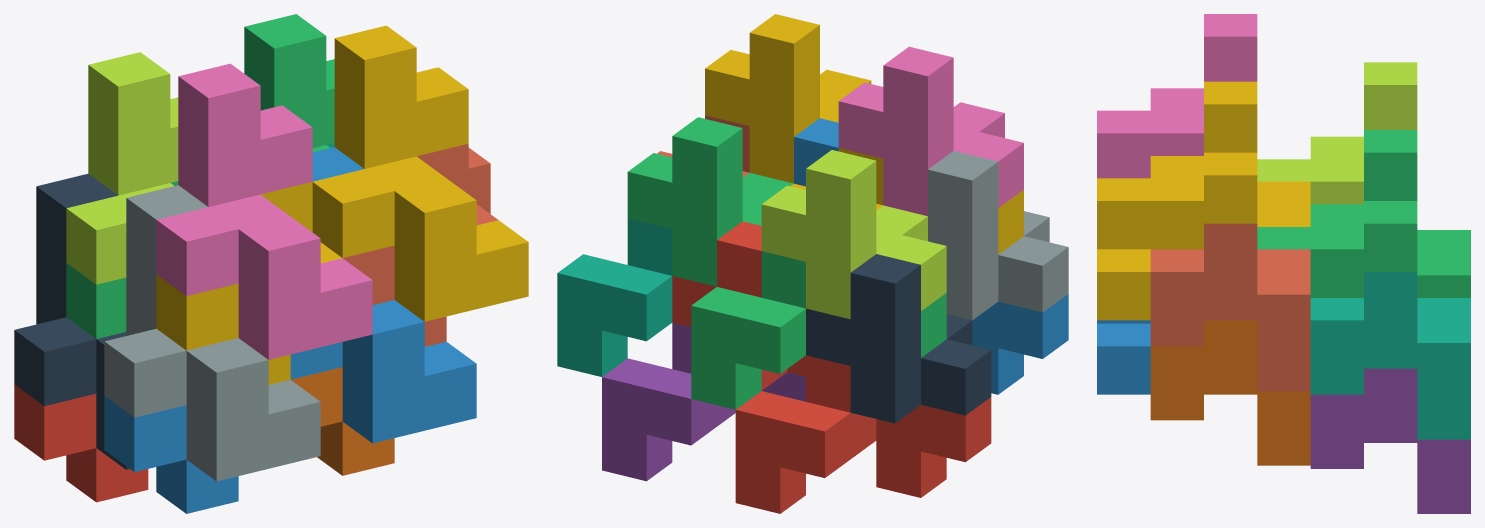
Rendered from tiling.obj.
3 renders of one model, left to right at view 1: azimuth 30°, elevation 25°; view 2: azimuth 150°, elevation 25°; view 3: azimuth 270°, elevation 25°, orthographic. The views are drawn at different scales.
Parts seen in each view (by area): view 1: copy_2_domain_4, copy_2_domain_8, copy_2_domain_2, copy_2_domain_3, copy_2_domain_6, copy_2_domain_1, copy_2_domain_7, copy_1_domain_2, copy_1_domain_1, copy_1_domain_4, copy_1_domain_8, copy_1_domain_6 (+1 smaller); view 2: copy_1_domain_1, copy_2_domain_1, copy_2_domain_4, copy_2_domain_3, copy_2_domain_2, copy_2_domain_7, copy_2_domain_8, copy_1_domain_3, copy_1_domain_7, copy_1_domain_5, copy_1_domain_2, copy_2_domain_5 (+3 smaller); view 3: copy_2_domain_8, copy_1_domain_8, copy_1_domain_7, copy_2_domain_7, copy_1_domain_6, copy_1_domain_5, copy_2_domain_4, copy_2_domain_3, copy_2_domain_6, copy_1_domain_3, copy_1_domain_4.
Boxes of the visible parts, x1,y1,x2,y2 form: copy_2_domain_4: (156, 63, 372, 359); copy_2_domain_8: (312, 25, 528, 321); copy_2_domain_2: (104, 185, 320, 481); copy_2_domain_3: (66, 52, 178, 284); copy_2_domain_6: (290, 147, 476, 443); copy_2_domain_1: (14, 173, 129, 469); copy_2_domain_7: (244, 14, 334, 152); copy_1_domain_2: (104, 396, 238, 513); copy_1_domain_1: (14, 384, 148, 502); copy_1_domain_4: (156, 182, 342, 384); copy_1_domain_8: (343, 143, 497, 346); copy_1_domain_6: (291, 367, 394, 475); copy_1_domain_1: (735, 355, 991, 513); copy_2_domain_1: (806, 254, 991, 423); copy_2_domain_4: (838, 46, 1023, 216); copy_2_domain_3: (761, 150, 946, 319); copy_2_domain_2: (928, 151, 1068, 320); copy_2_domain_7: (627, 117, 793, 286); copy_2_domain_8: (705, 14, 871, 183); copy_1_domain_3: (691, 251, 946, 409); copy_1_domain_7: (557, 218, 672, 376); copy_1_domain_5: (602, 322, 805, 481); copy_1_domain_2: (972, 294, 1068, 394); copy_2_domain_5: (672, 221, 805, 390); copy_2_domain_8: (1097, 81, 1257, 320); copy_1_domain_8: (1150, 223, 1310, 391); copy_1_domain_7: (1310, 272, 1470, 439); copy_2_domain_7: (1257, 130, 1417, 297); copy_1_domain_6: (1150, 320, 1310, 465); copy_1_domain_5: (1310, 368, 1470, 513); copy_2_domain_4: (1097, 14, 1257, 178); copy_2_domain_3: (1257, 62, 1417, 204); copy_2_domain_6: (1097, 320, 1150, 394); copy_1_domain_3: (1417, 230, 1470, 297); copy_1_domain_4: (1257, 181, 1310, 226).
Bounding box in the file's own units: 8 × 8 × 7.
